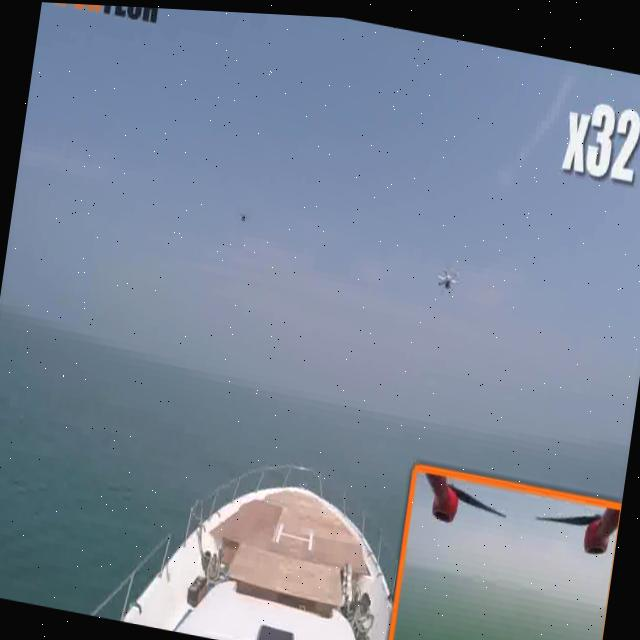drone: (225, 193, 271, 240)
